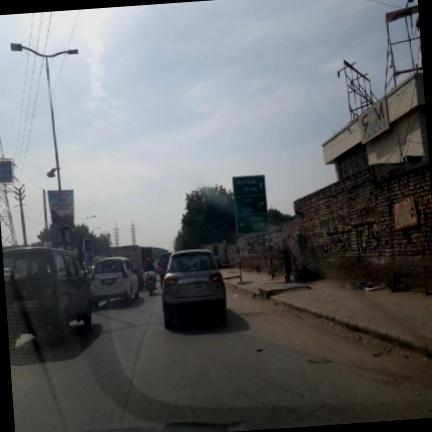Road: (9, 289, 431, 431)
